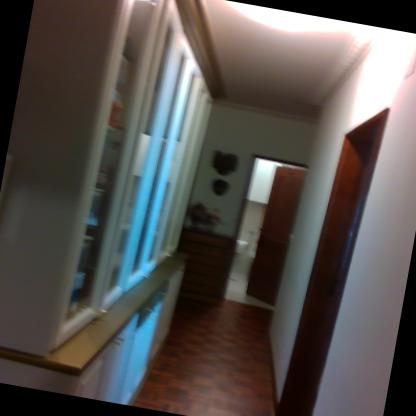semi: (211, 144, 316, 322)
